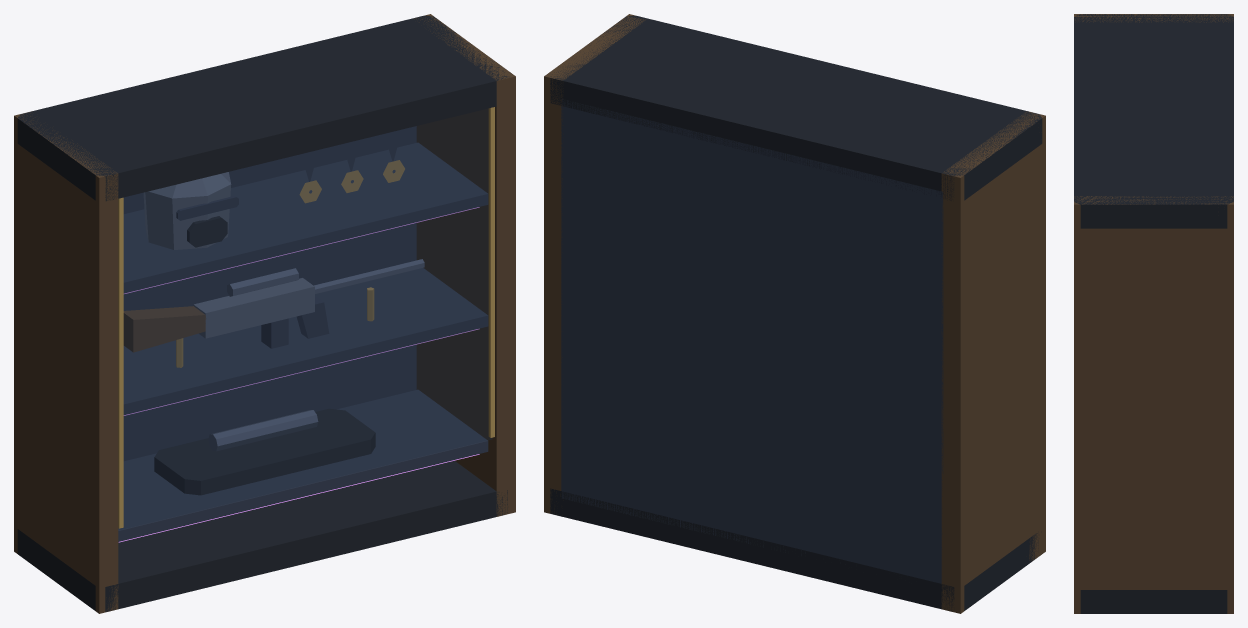
File: res_trophy_case_tall.glb
The picture shows the model from 3 angles, left to right: view 1: azimuth 30°, elevation 25°; view 2: azimuth 150°, elevation 25°; view 3: azimuth 270°, elevation 25°; orthographic projection. The views are drawn at different scales.
Visible parts, largest first — view 1: glass_front, blade_pedestal, rifle_stock, medal_ribbon, helmet_brow, historic_helmet, brass_glazing_bead, plasmaBlade_hilt, museum_light; view 2: helmet_brow, blade_pedestal, rifle_stock; view 3: rifle_stock, blade_pedestal.
Part boxes in pixels (box(x1,y1,x2,y2)): glass_front: box(118, 109, 492, 530); blade_pedestal: box(17, 15, 509, 612); rifle_stock: box(14, 14, 515, 613); medal_ribbon: box(118, 131, 488, 541); helmet_brow: box(123, 126, 416, 460); historic_helmet: box(143, 172, 314, 338); brass_glazing_bead: box(118, 107, 494, 528); plasmaBlade_hilt: box(208, 259, 424, 451); museum_light: box(118, 207, 479, 542); helmet_brow: box(561, 99, 943, 583); blade_pedestal: box(550, 15, 1042, 611); rifle_stock: box(544, 14, 1045, 613); rifle_stock: box(1074, 14, 1233, 613); blade_pedestal: box(1074, 14, 1233, 613).
Bounding box in the file's own units: 2.4 × 2.4 × 0.85.
